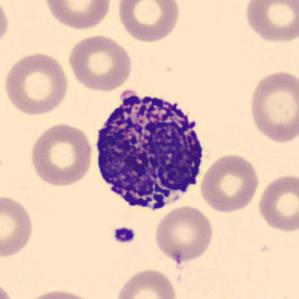Basophil: (89, 84, 211, 219)
Platelets: (111, 225, 137, 245)
RBC: (1, 50, 72, 117), (27, 121, 95, 188), (66, 33, 134, 92), (198, 152, 262, 214), (247, 68, 298, 145), (152, 203, 216, 264), (114, 0, 181, 43), (256, 171, 298, 234), (241, 0, 298, 45), (0, 192, 36, 259), (40, 0, 114, 31), (113, 267, 179, 299), (20, 286, 98, 299), (0, 1, 11, 50), (0, 277, 17, 299)
